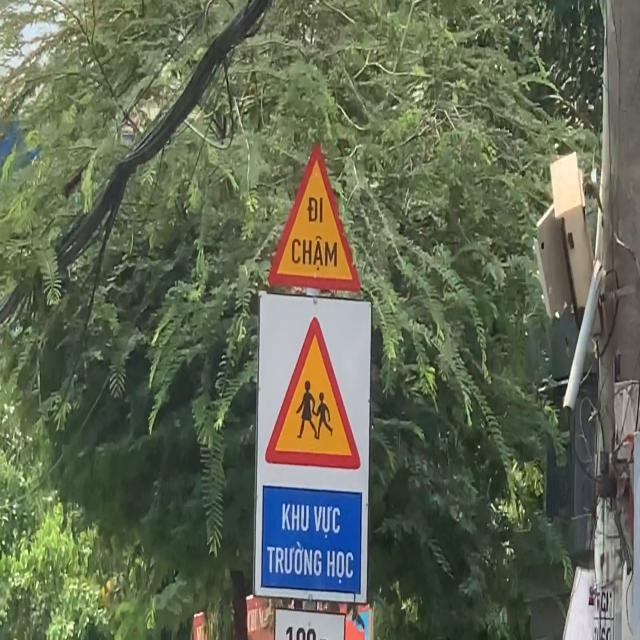bien_cam: (260, 310, 364, 481), (266, 134, 364, 302)
